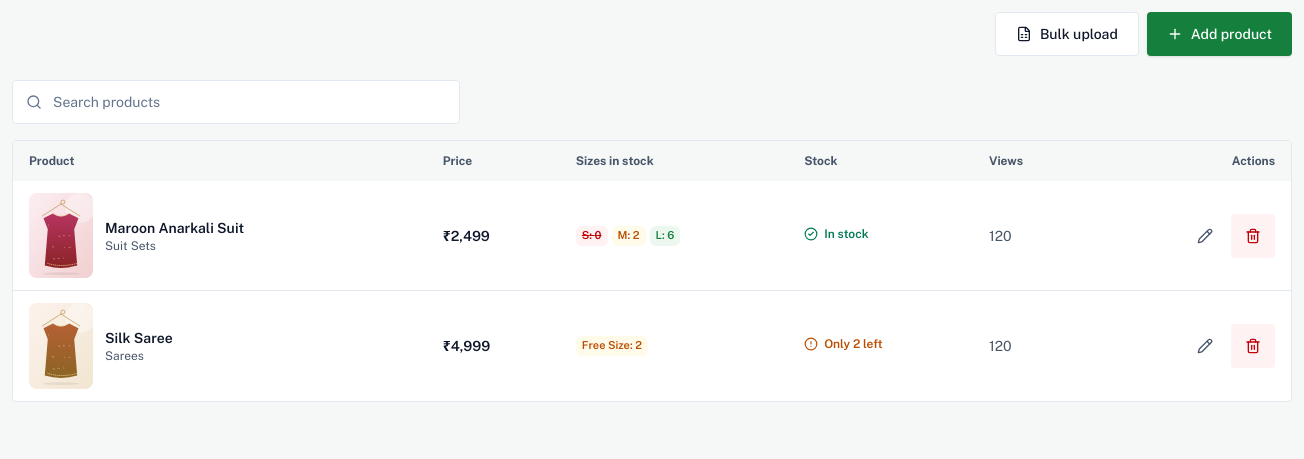
Test: <ProductAdmin /> list › filters by search text and shows an empty state when nothing matches
The width and height of the screenshot is (1304, 459).
In the field labelled "Search products": point(236, 102) [12,80,460,124], type "saree"
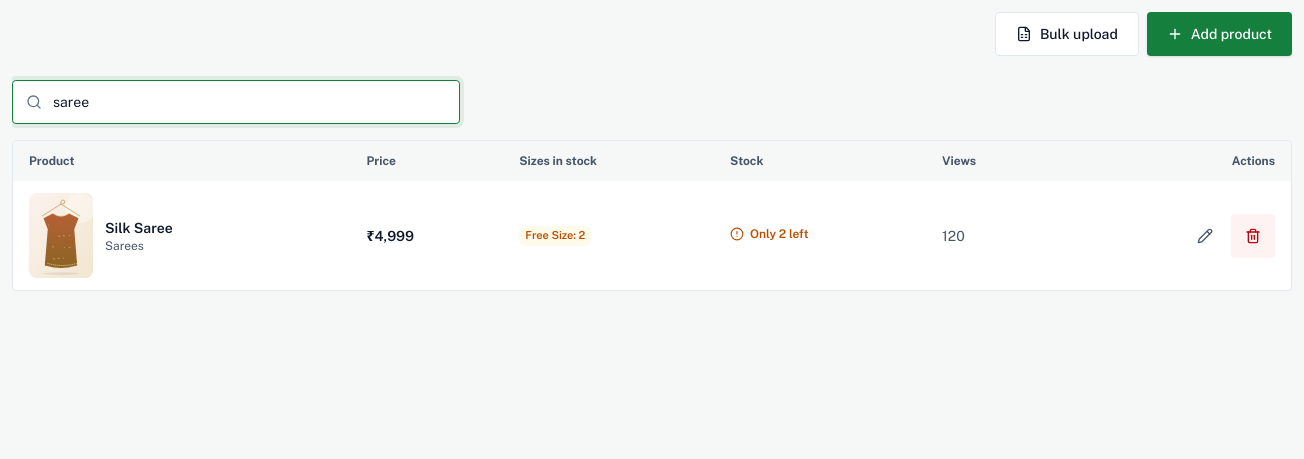
Check: the text "Silk Saree" is shown, box [105,218,173,238]
Check: the text "Maroon Anarkali Suit" is gone
Replace the text in the field named "Search products" with "zzz": point(236, 102) [12,80,460,124]
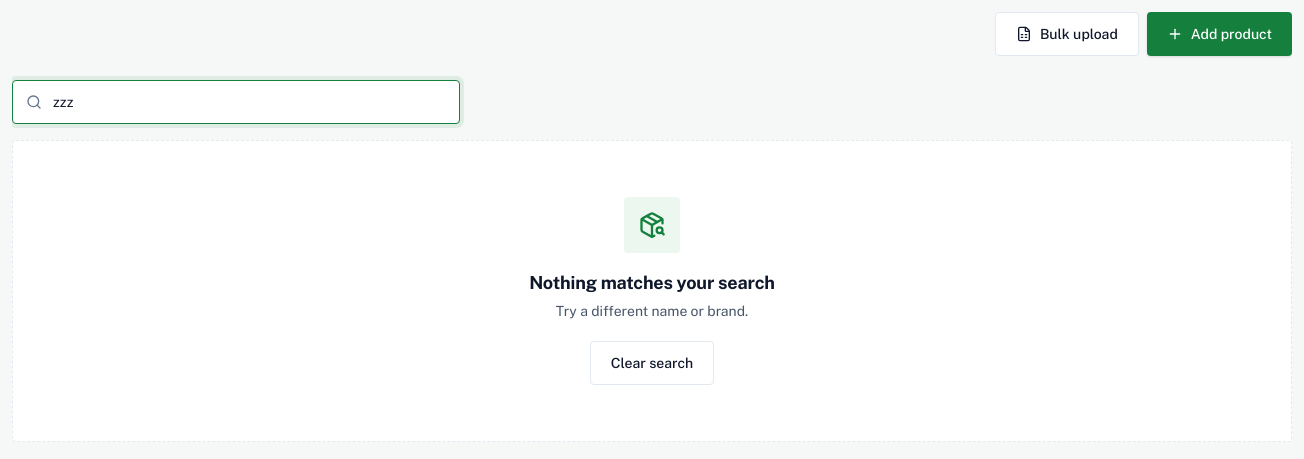
Check: the heading "Nothing matches your search" is shown, box [529,269,775,297]
Click the button "Clear search": point(652, 363) [590,341,714,385]
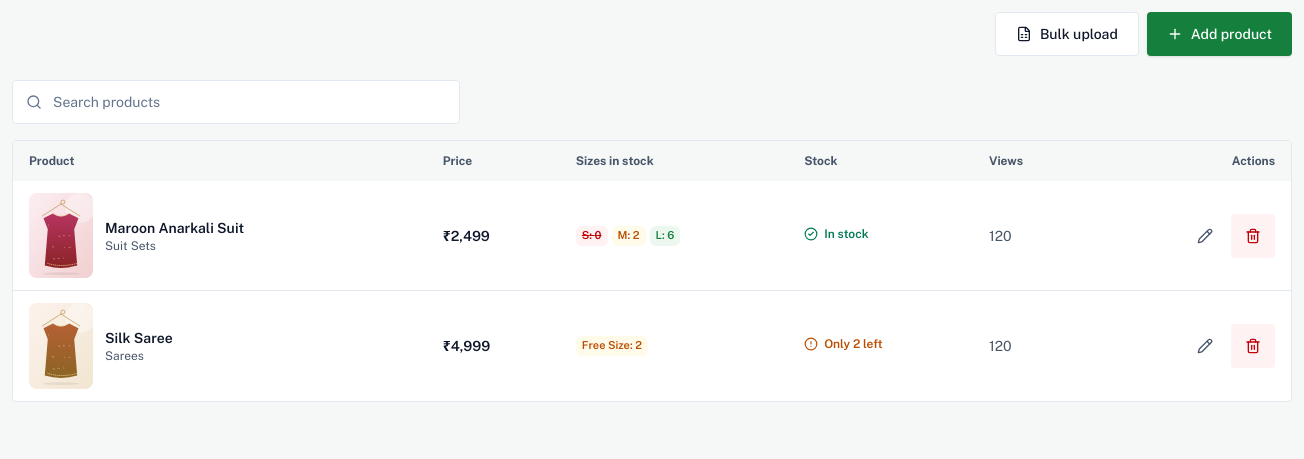
Check: the table is shown, box [13,141,1291,401]
